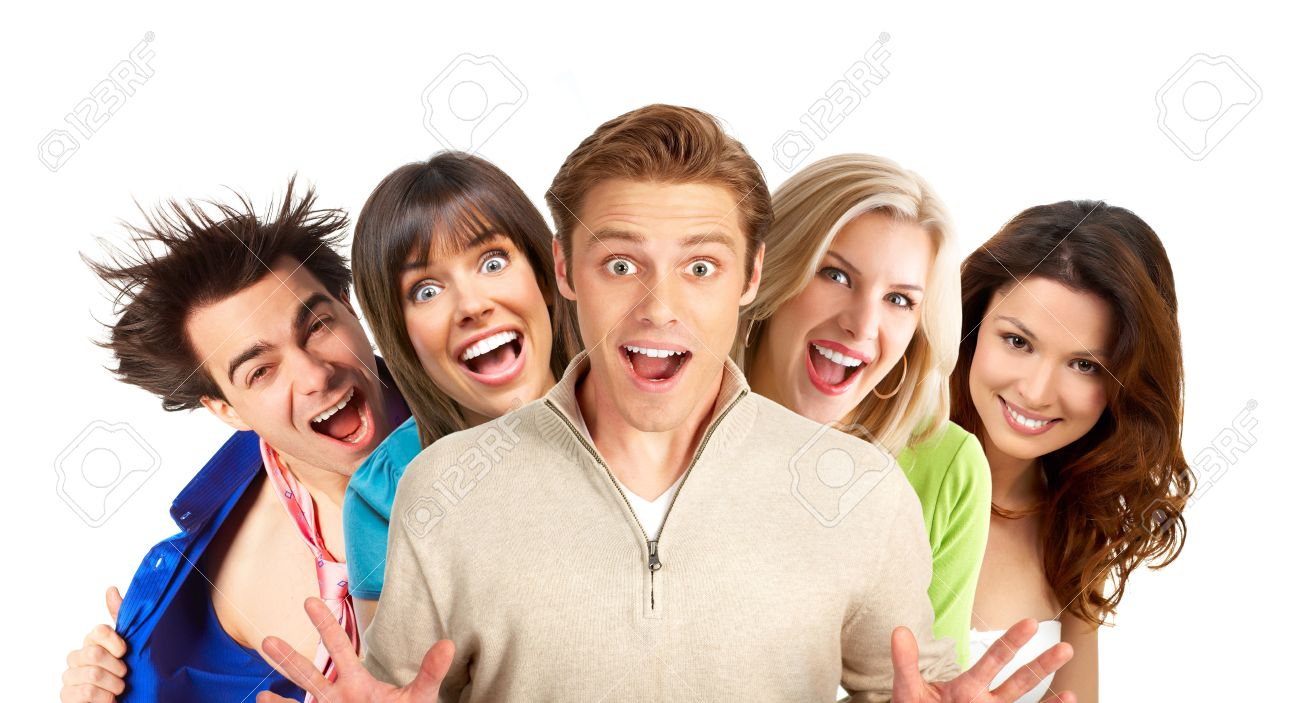bare: (573, 295, 739, 427), (242, 344, 388, 473), (414, 292, 556, 414), (774, 309, 898, 430), (970, 372, 1111, 465)
